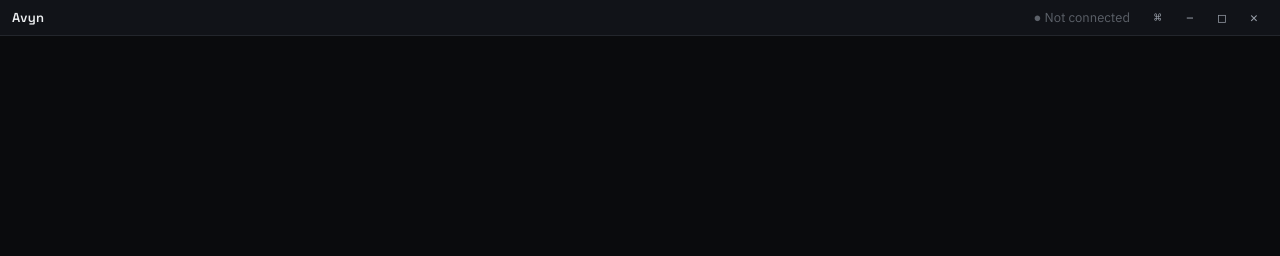
it: Titlebar — bot presence menu (019) › fetches the persisted presence on mount, for the menu's initial render
The width and height of the screenshot is (1280, 256).
Click the button with aria-label "bot presence menu": (1082, 18) x1=1034 y1=9 x2=1130 y2=26
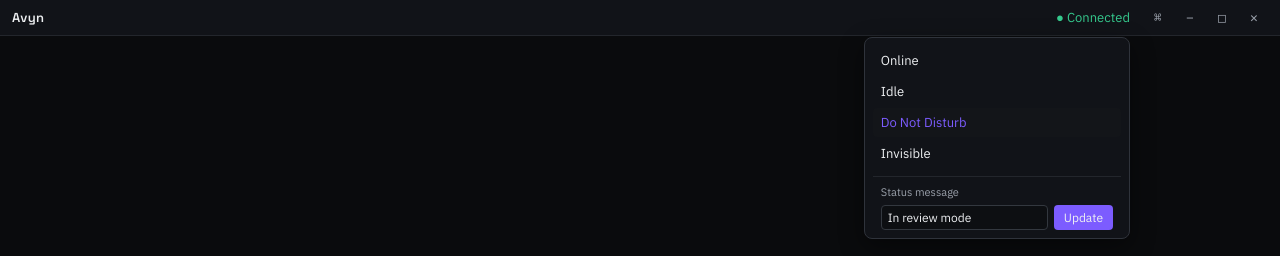
Result: the field labelled "Status message" holds "In review mode" at x1=881 y1=205 x2=1048 y2=230
